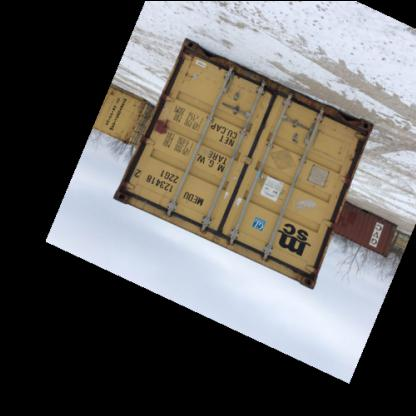Damage: (290, 255, 326, 290), (174, 38, 203, 80), (265, 74, 296, 112), (112, 178, 144, 210), (348, 118, 368, 160)
